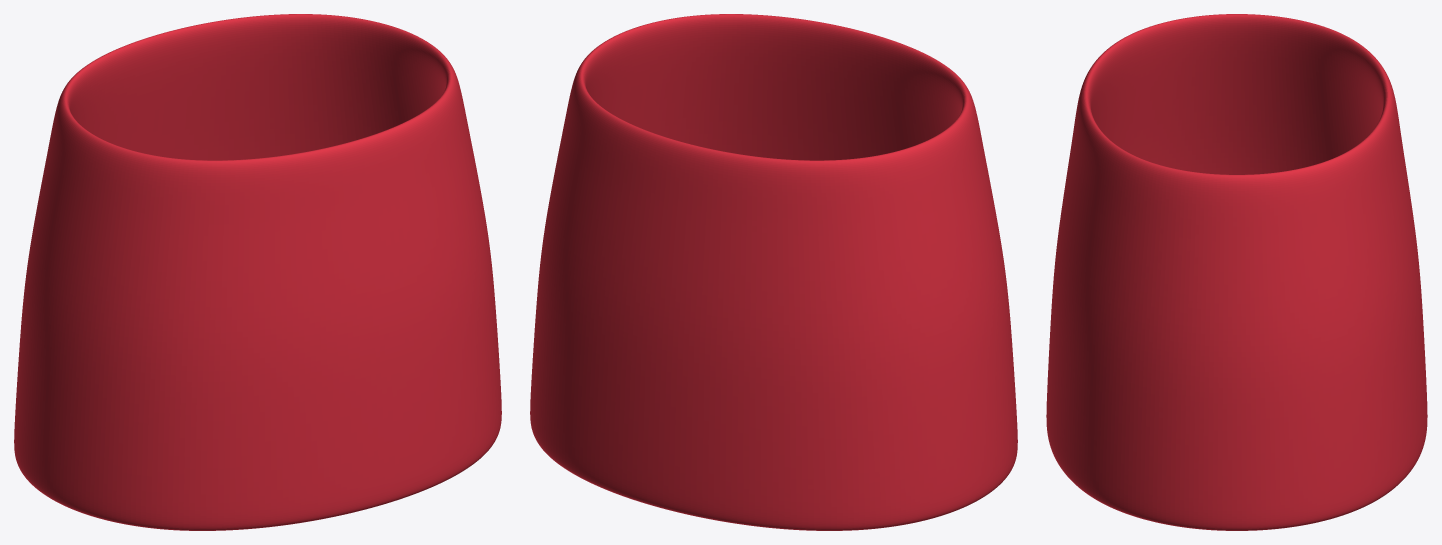
File: PANTALON_1_M.glb
3 views of the same model, side by side, from view 1: azimuth 30°, elevation 25°; view 2: azimuth 150°, elevation 25°; view 3: azimuth 270°, elevation 25° (orthographic). The views are drawn at different scales.
Parts seen in each view (by area): view 1: Cube.071; view 2: Cube.071; view 3: Cube.071.
Part boxes in pixels (box(x1,y1,x2,y2)): Cube.071: box(14, 14, 501, 530); Cube.071: box(530, 14, 1017, 530); Cube.071: box(1046, 14, 1427, 530).
Bounding box in the file's own units: 2.12 × 1.64 × 1.68.
